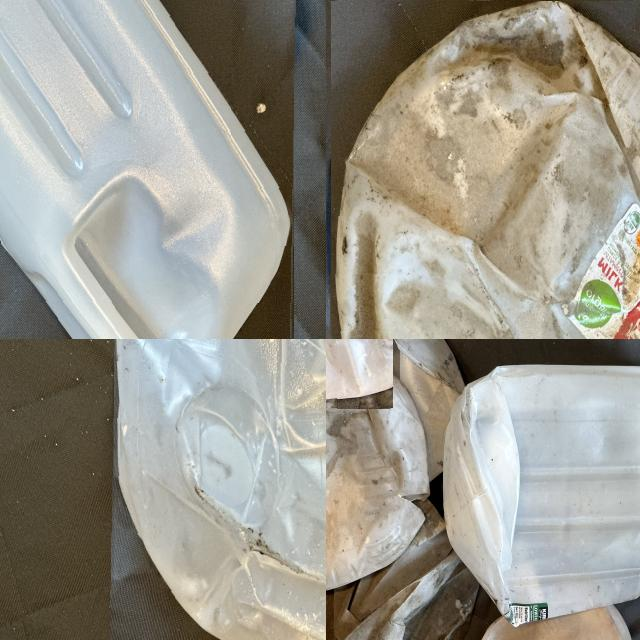milk-jug: (329, 0, 640, 339), (0, 0, 297, 339), (112, 339, 326, 640), (442, 367, 640, 621), (326, 339, 455, 596)
